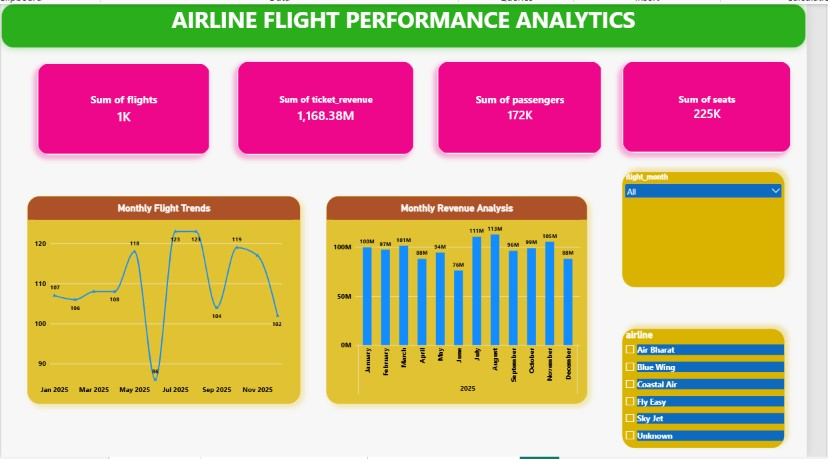

The dashboard page shown, as its layout file describes it:
{"tool":"powerbi","page":{"name":"Overview","canvas":[1920,1080],"ordinal":0},"visuals":[{"type":"cardVisual","fields":{"Data":["Sum(`airline_flights` `default` `gold_monthly_flights`.flights)"]},"box":[85.9,140.8,412.8,219.5],"z":0},{"type":"textbox","box":[0,0,1919.1,104.9],"z":1000},{"type":"cardVisual","fields":{"Data":["Sum(`airline_flights` `default` `gold_monthly_flights`.passengers)"]},"box":[1040.3,136,393.7,221.9],"z":2000},{"type":"cardVisual","fields":{"Data":["Sum(`airline_flights` `default` `gold_monthly_flights`.ticket_revenue)"]},"box":[563.1,136,422.3,224.3],"z":3000},{"type":"cardVisual","fields":{"Data":["Sum(`airline_flights` `default` `gold_monthly_flights`.seats)"]},"box":[1481.7,136,403.2,219.5],"z":4000},{"type":"lineChart","title":"Monthly Flight Trends","fields":{"Category":["`airline_flights` `default` `gold_monthly_flights`.flight_month.Variation.Date Hierarchy.Year","`airline_flights` `default` `gold_monthly_flights`.flight_month.Variation.Date Hierarchy.Month"],"Y":["Sum(`airline_flights` `default` `gold_monthly_flights`.flights)"]},"box":[62,458.1,651.4,496.3],"z":5000},{"type":"clusteredColumnChart","title":"Monthly Revenue Analysis","fields":{"Category":["`airline_flights` `default` `gold_monthly_flights`.flight_month.Variation.Date Hierarchy.Year","`airline_flights` `default` `gold_monthly_flights`.flight_month.Variation.Date Hierarchy.Month"],"Y":["Sum(`airline_flights` `default` `gold_monthly_flights`.ticket_revenue)"]},"box":[775.4,458.1,622.7,496.3],"z":6000},{"type":"slicer","fields":{"Values":["`airline_flights` `default` `gold_monthly_flights`.flight_month"]},"box":[1481.7,400.8,386.5,274.4],"z":7000},{"type":"slicer","fields":{"Values":["`airline_flights` `default` `gold_airline_summary`.airline"]},"box":[1481.7,775.4,386.5,283.9],"z":8000}]}

Visuals, with their boxes in screenshot pixels (x1, y1, x2, y2), scaled from the page's 1920x1080 canvas onto the 828x459 screenshot:
cardVisual - Sum(`airline_flights` `default` `gold_monthly_flights`.flights): pyautogui.locateOnScreen(37, 60, 215, 153)
textbox: pyautogui.locateOnScreen(0, 0, 827, 45)
cardVisual - Sum(`airline_flights` `default` `gold_monthly_flights`.passengers): pyautogui.locateOnScreen(449, 58, 618, 152)
cardVisual - Sum(`airline_flights` `default` `gold_monthly_flights`.ticket_revenue): pyautogui.locateOnScreen(243, 58, 425, 153)
cardVisual - Sum(`airline_flights` `default` `gold_monthly_flights`.seats): pyautogui.locateOnScreen(639, 58, 813, 151)
"Monthly Flight Trends" lineChart: pyautogui.locateOnScreen(27, 195, 308, 406)
"Monthly Revenue Analysis" clusteredColumnChart: pyautogui.locateOnScreen(334, 195, 603, 406)
slicer - `airline_flights` `default` `gold_monthly_flights`.flight_month: pyautogui.locateOnScreen(639, 170, 806, 287)
slicer - `airline_flights` `default` `gold_airline_summary`.airline: pyautogui.locateOnScreen(639, 330, 806, 450)
